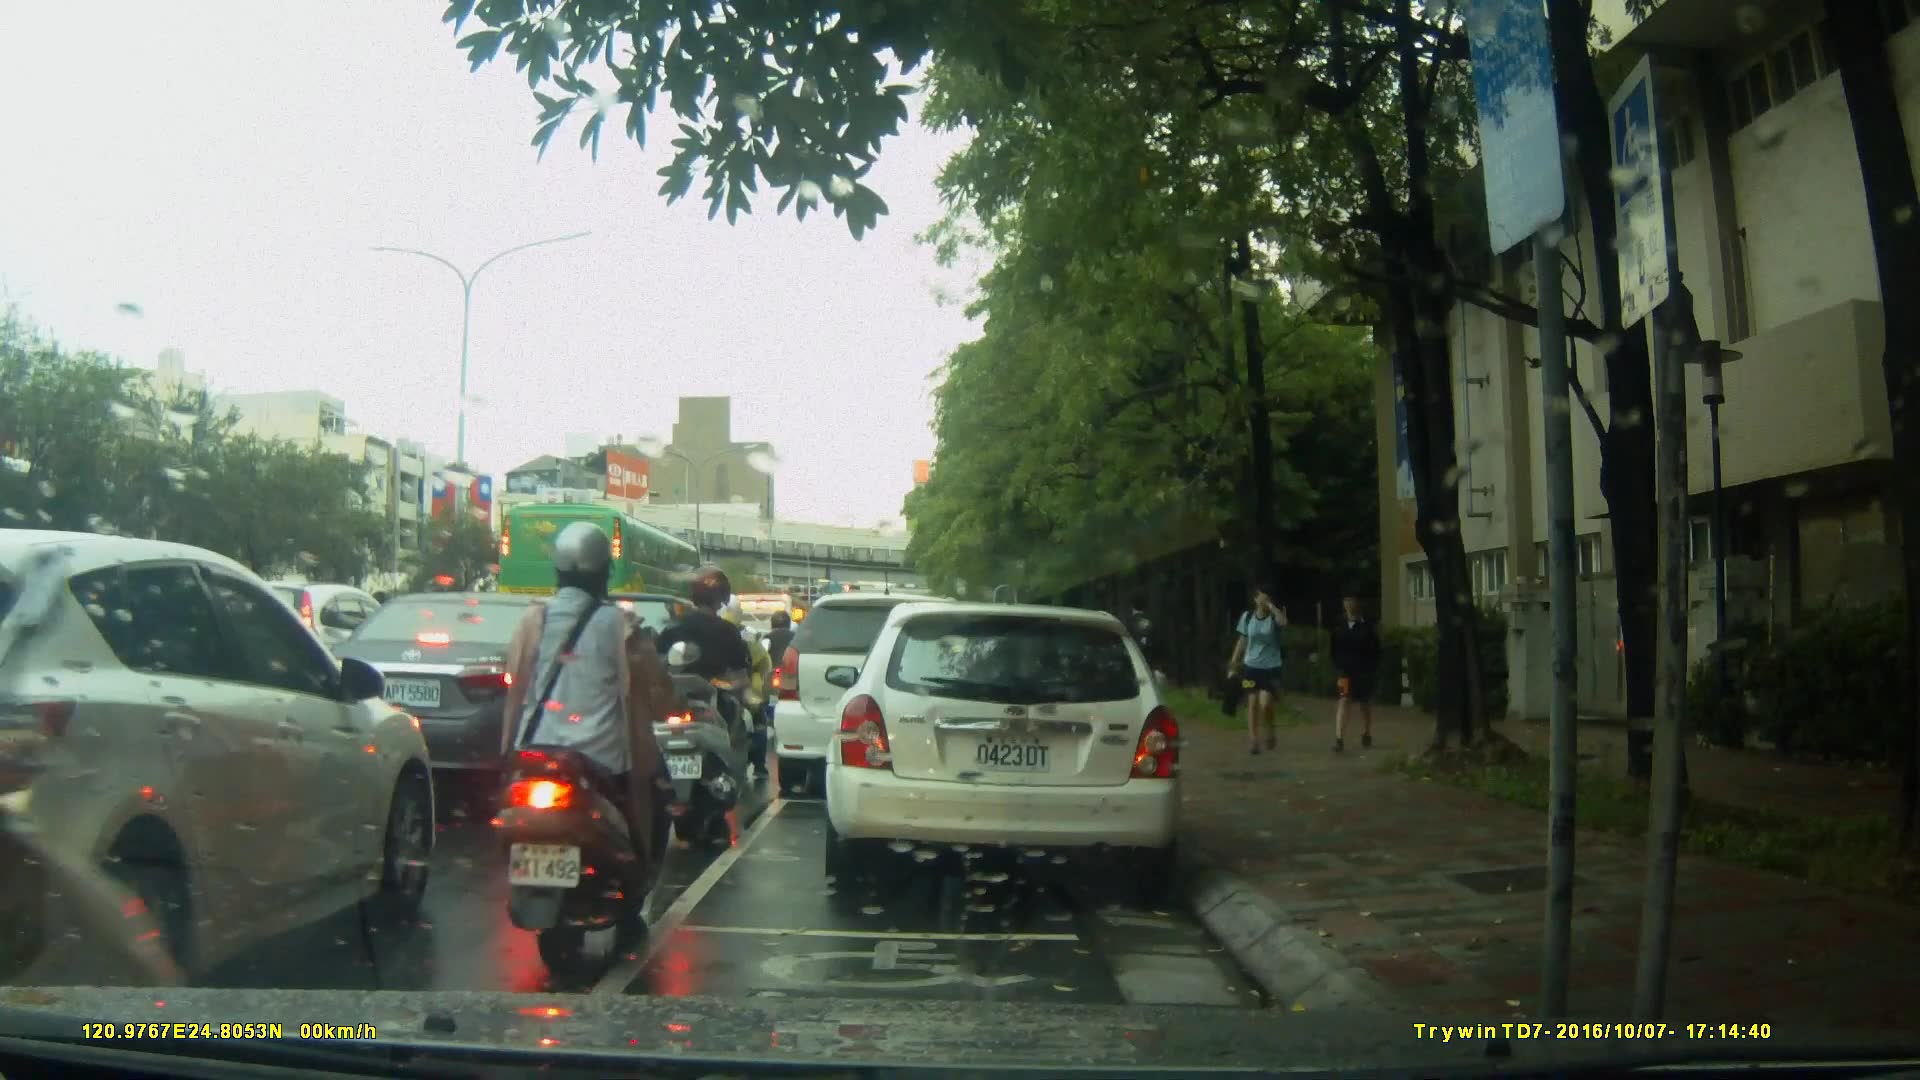pedestrian: (1211, 581, 1325, 760), (1325, 574, 1395, 763), (1123, 596, 1164, 729)
rider: (499, 523, 668, 970), (646, 568, 751, 837), (702, 593, 776, 776), (751, 610, 813, 753)
vehicle: (1, 528, 446, 987), (831, 592, 1196, 897), (312, 590, 640, 806), (770, 592, 999, 802), (495, 500, 707, 638)
